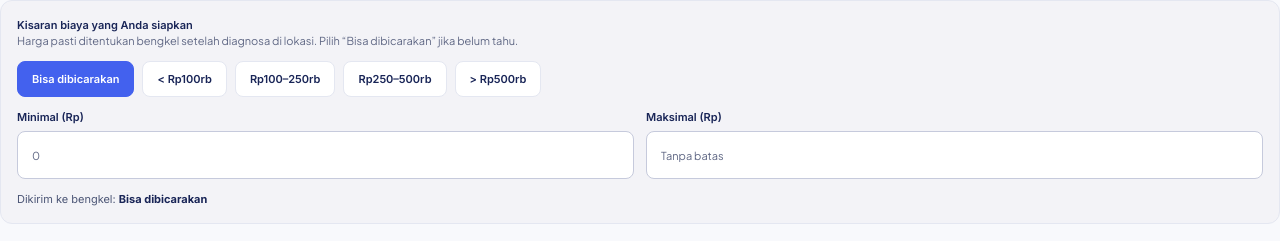
Test: PriceRangeField (SOS budget) › applies a preset and flags min > max
Click the radio button labelled "Rp100–250rb".
click(285, 79)  # box [235,61,336,97]
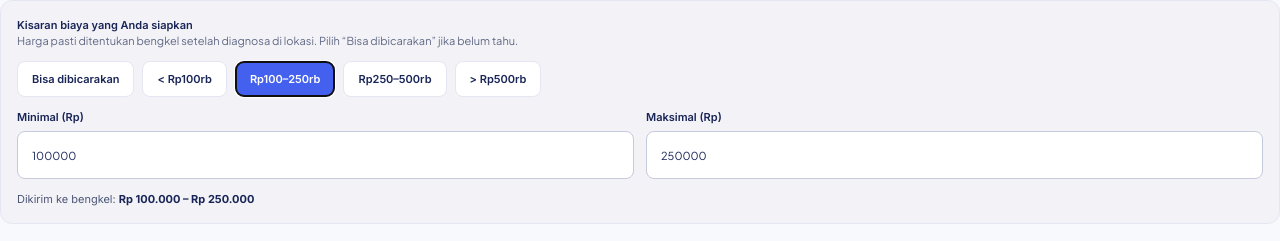
expect the number field labelled "Minimal (Rp)" holds "100000": met
expect the number field labelled "Maksimal (Rp)" holds "250000": met, box [646,131,1263,179]
Replace the text in the number field labelled "Minimal (Rp)" with "300000" at (326, 155), box [17,131,634,179]
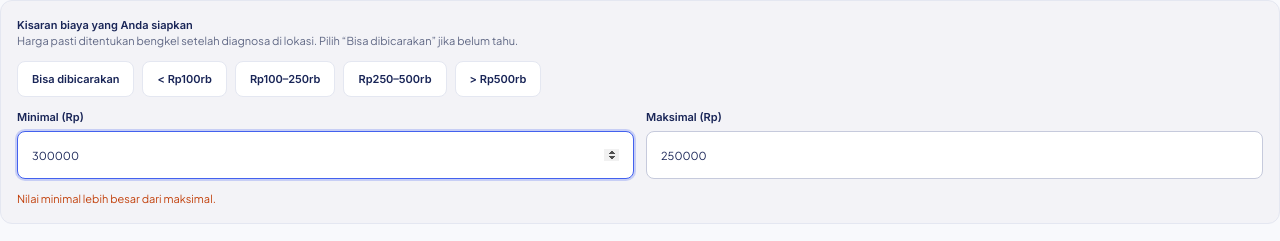
expect the text "Nilai minimal lebih besar dari maksimal." is shown: met, box [17,192,216,205]
